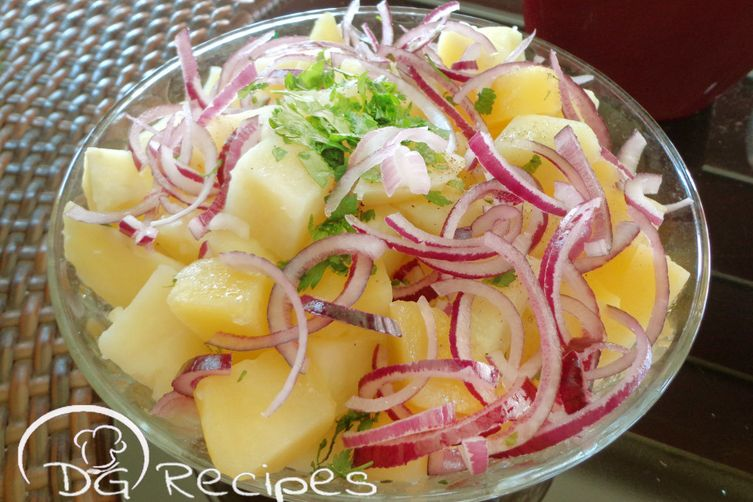boiled potatoes: (115, 62, 620, 438)
